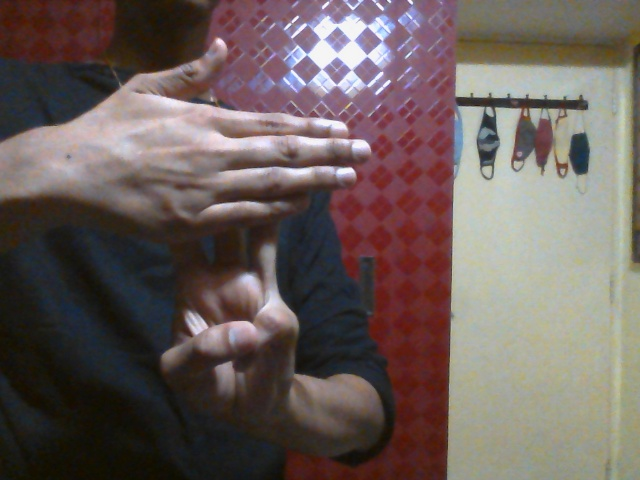M: (103, 35, 372, 415)
